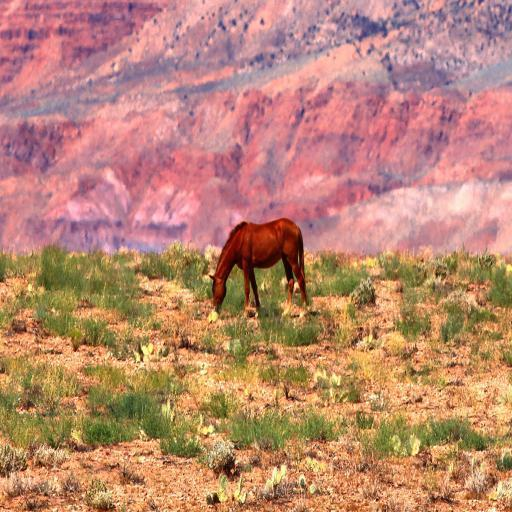horse: (209, 216, 307, 320)
